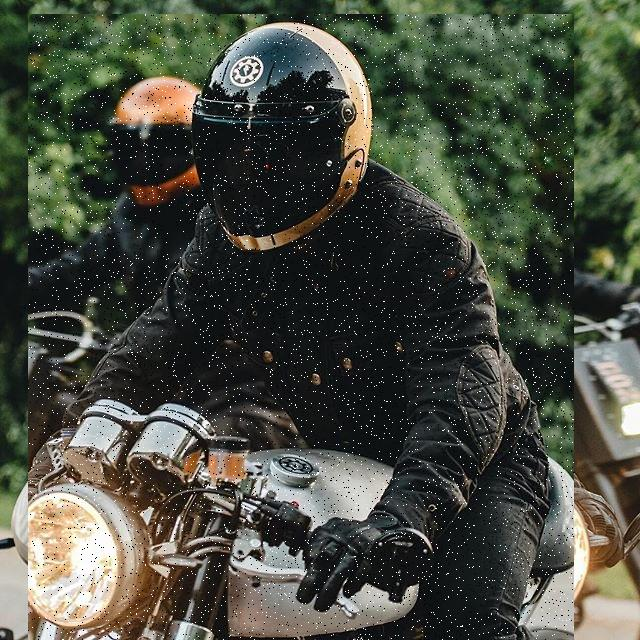With Helmet: (28, 14, 574, 640)
